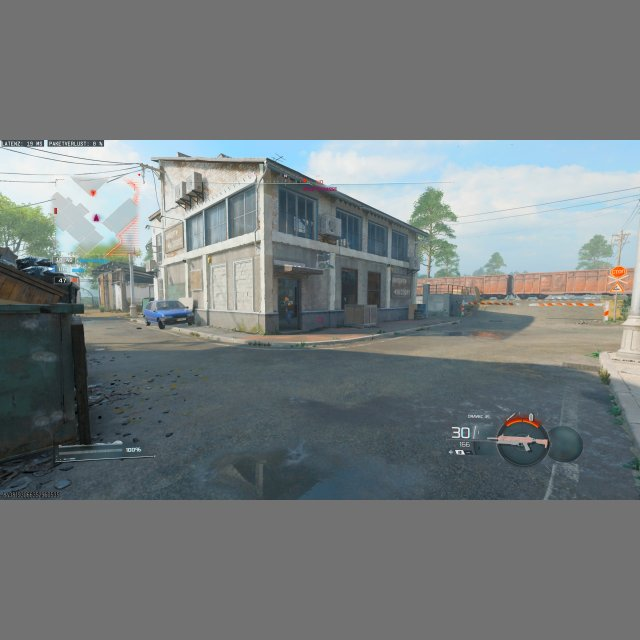player: (282, 295, 294, 326)
